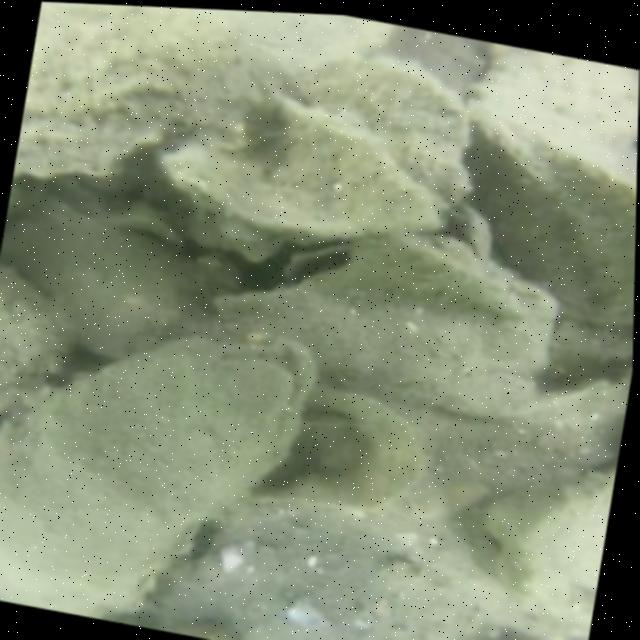Oyster-Closed: (0, 334, 311, 593), (160, 99, 488, 257)
Oyster-Indeterminate: (215, 235, 554, 419), (22, 3, 274, 178), (157, 501, 469, 640), (466, 97, 636, 324), (265, 54, 481, 226), (6, 197, 198, 354), (220, 385, 431, 512), (492, 53, 639, 172), (206, 9, 401, 64), (0, 266, 72, 399)
